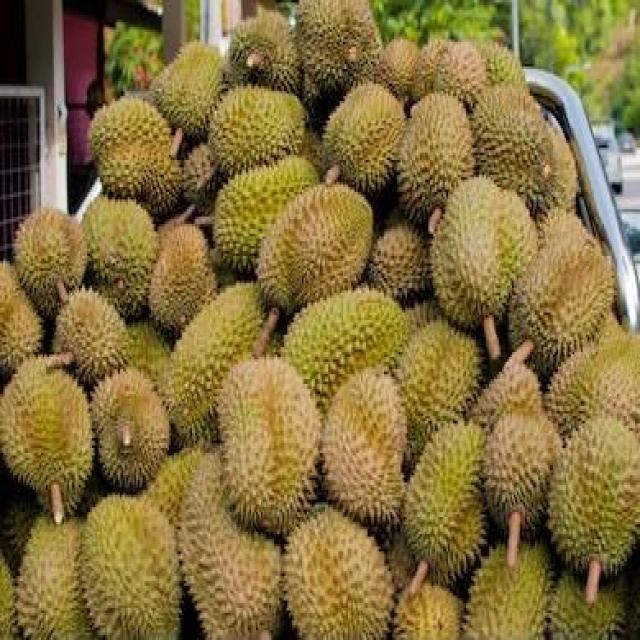mature: (179, 454, 281, 639), (219, 358, 321, 535), (509, 208, 615, 376), (258, 186, 371, 312), (285, 510, 392, 639), (322, 373, 405, 524), (485, 411, 560, 567), (91, 368, 170, 490), (400, 96, 474, 224), (15, 208, 88, 316), (149, 223, 215, 335), (55, 291, 126, 383), (369, 223, 430, 299)
